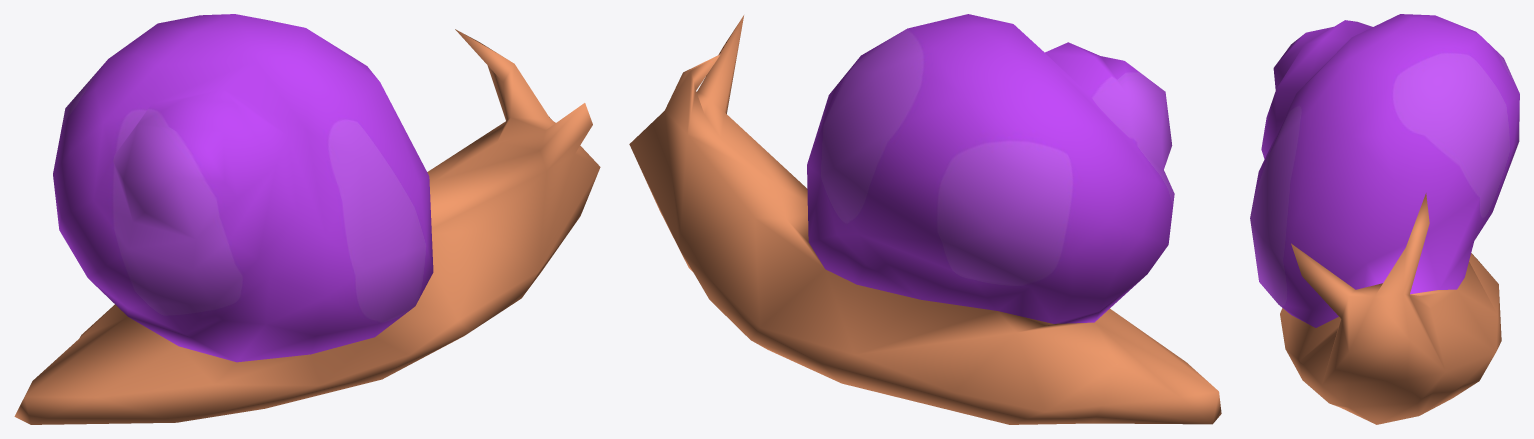
File: snail.glb
3 views of the same model, side by side, from view 1: azimuth 30°, elevation 25°; view 2: azimuth 150°, elevation 25°; view 3: azimuth 270°, elevation 25° (orthographic). The views are drawn at different scales.
Visible parts, largest first — view 1: uploads_files_1004463_Snail:Snail; view 2: uploads_files_1004463_Snail:Snail; view 3: uploads_files_1004463_Snail:Snail.
Boxes of the visible parts, x1=… form: uploads_files_1004463_Snail:Snail: x1=14, y1=14, x2=600, y2=424; uploads_files_1004463_Snail:Snail: x1=629, y1=14, x2=1221, y2=424; uploads_files_1004463_Snail:Snail: x1=1250, y1=14, x2=1519, y2=424.
Size of the model in its own units: 100 by 56.14 by 47.11.
Materials: 1 (1 with a texture image).
